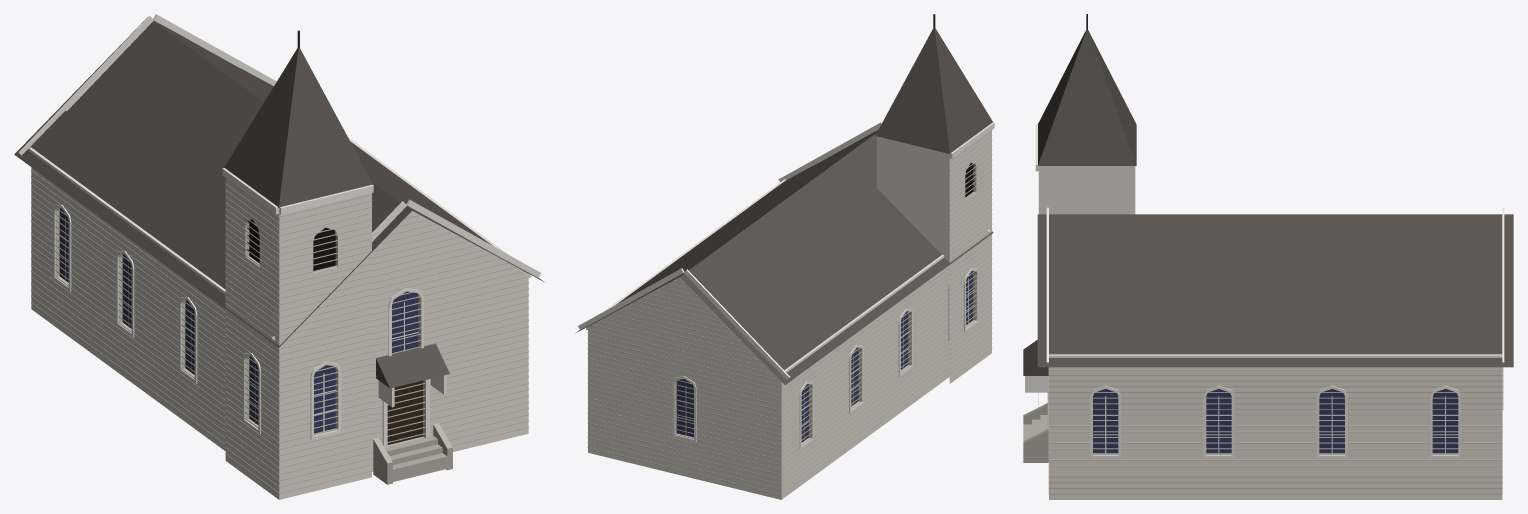
Rendered from ch-first-presbyterian-argenta-1913.glb.
3 views of the same model, side by side, from view 1: azimuth 30°, elevation 25°; view 2: azimuth 150°, elevation 25°; view 3: azimuth 270°, elevation 25° (orthographic). The views are drawn at different scales.
Parts seen in each view (by area): view 1: ch_brick, ch_roof, ch_brick2, ch_roof2, ch_trim, ch_stain, ch_conc, ch_door, ch_shadow; view 2: ch_brick, ch_roof, ch_brick2, ch_roof2, ch_trim, ch_stain; view 3: ch_roof, ch_brick, ch_brick2, ch_roof2, ch_trim, ch_stain, ch_conc.
Part boxes in pixels (x1=…): ch_brick: x1=31, y1=167, x2=528, y2=499; ch_roof: x1=14, y1=17, x2=543, y2=347; ch_brick2: x1=31, y1=29, x2=528, y2=493; ch_roof2: x1=224, y1=48, x2=449, y2=388; ch_trim: x1=18, y1=14, x2=541, y2=447; ch_stain: x1=59, y1=208, x2=418, y2=433; ch_conc: x1=373, y1=423, x2=452, y2=484; ch_door: x1=387, y1=380, x2=422, y2=444; ch_shadow: x1=249, y1=219, x2=335, y2=270; ch_brick: x1=588, y1=131, x2=991, y2=499; ch_roof: x1=575, y1=130, x2=993, y2=384; ch_brick2: x1=587, y1=130, x2=992, y2=494; ch_roof2: x1=875, y1=28, x2=992, y2=153; ch_trim: x1=578, y1=121, x2=994, y2=449; ch_stain: x1=676, y1=271, x2=973, y2=442; ch_roof: x1=1037, y1=214, x2=1513, y2=367; ch_brick: x1=1039, y1=166, x2=1502, y2=499; ch_brick2: x1=1038, y1=171, x2=1502, y2=494; ch_roof2: x1=1023, y1=30, x2=1136, y2=375; ch_trim: x1=1025, y1=124, x2=1504, y2=457; ch_stain: x1=1093, y1=389, x2=1458, y2=453; ch_conc: x1=1023, y1=403, x2=1048, y2=462.
Size of the model in its own units: 9.89 by 15.45 by 17.3.
